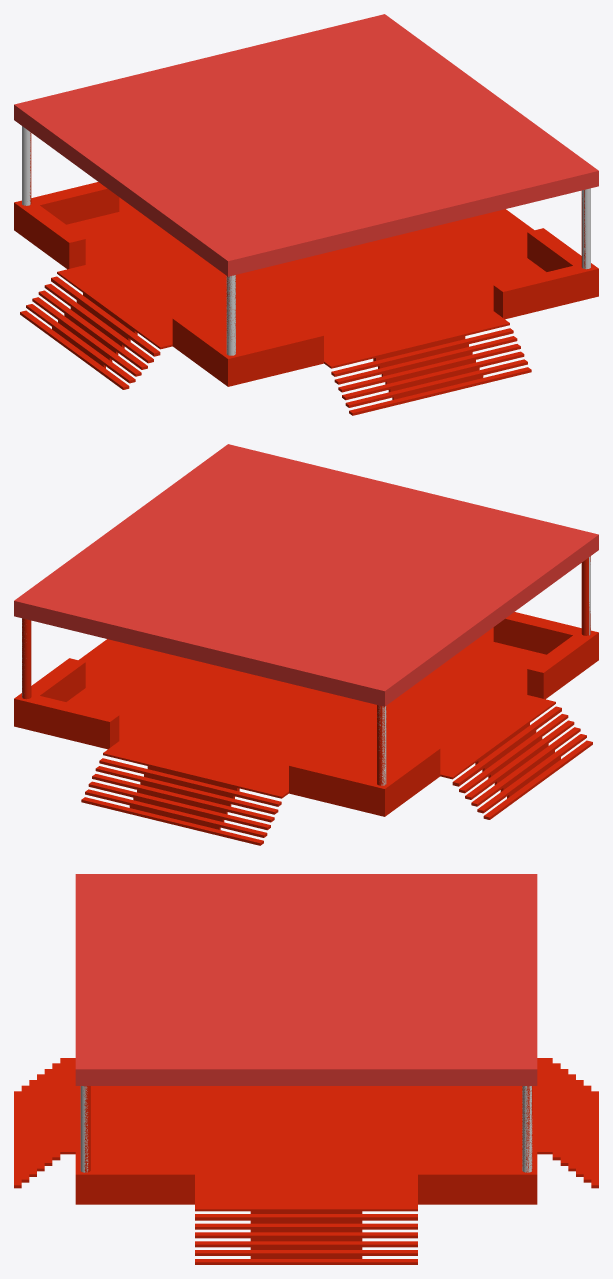
The model's file is EscalerasCentrales3.fbx.
3 views of the same model, one above another, from view 1: azimuth 30°, elevation 25°; view 2: azimuth 150°, elevation 25°; view 3: azimuth 270°, elevation 25° (orthographic). The views are drawn at different scales.
Visible parts, largest first — view 1: Cube.002, Cube, Cube.001; view 2: Cube.002, Cube, Cube.001; view 3: Cube.002, Cube, Cube.001.
Part boxes in pixels (<box>): Cube.002: <box>14,14,598,276</box>; Cube: <box>14,132,598,415</box>; Cube.001: <box>22,126,590,355</box>; Cube.002: <box>14,444,598,706</box>; Cube: <box>14,556,598,845</box>; Cube.001: <box>22,556,590,785</box>; Cube.002: <box>75,874,537,1085</box>; Cube: <box>14,1058,598,1264</box>; Cube.001: <box>80,1086,532,1172</box>.
Size of the model in its own units: 3800 by 1217 by 3800.
